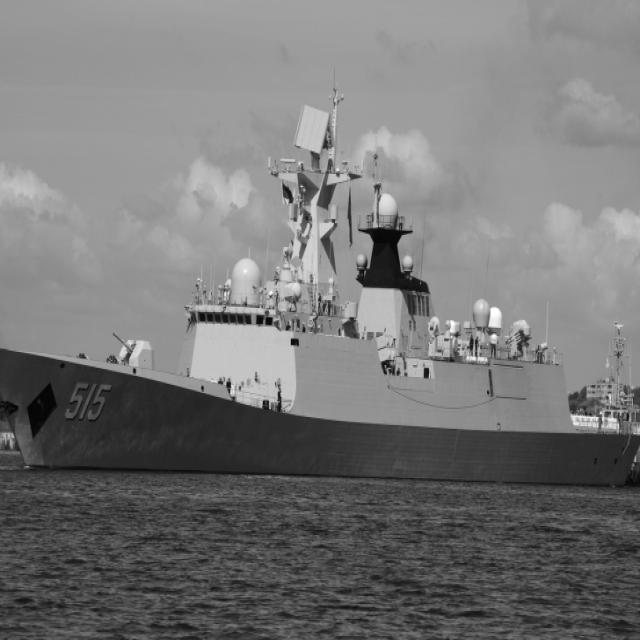Fragata: (1, 93, 640, 478)
